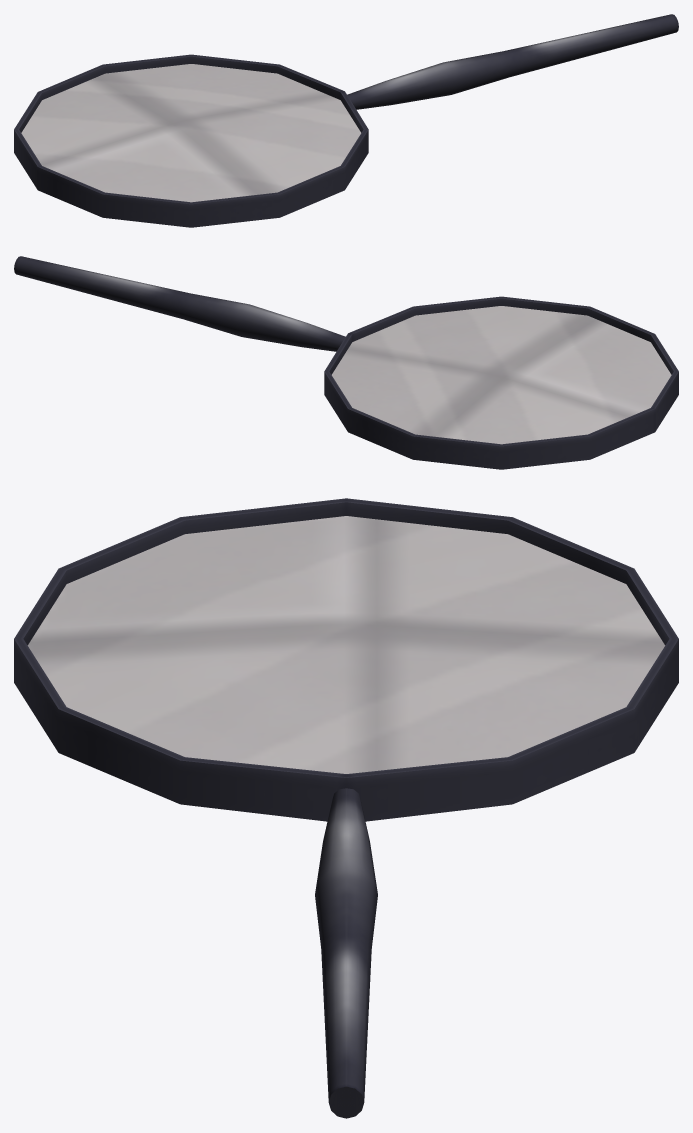
The model's file is CeSuo_01_fangdajing_01.FBX.
3 renders of one model, top to bottom at view 1: azimuth 30°, elevation 25°; view 2: azimuth 150°, elevation 25°; view 3: azimuth 270°, elevation 25°, orthographic. The views are drawn at different scales.
Visible parts, largest first — view 1: CeSuo_01_fangdajing_01; view 2: CeSuo_01_fangdajing_01; view 3: CeSuo_01_fangdajing_01.
Boxes of the visible parts, x1,y1,x2,y2 form: CeSuo_01_fangdajing_01: [14, 14, 678, 227]; CeSuo_01_fangdajing_01: [14, 256, 678, 469]; CeSuo_01_fangdajing_01: [14, 498, 678, 1118].
Bounding box in the file's own units: 106 × 4.85 × 51.21.
